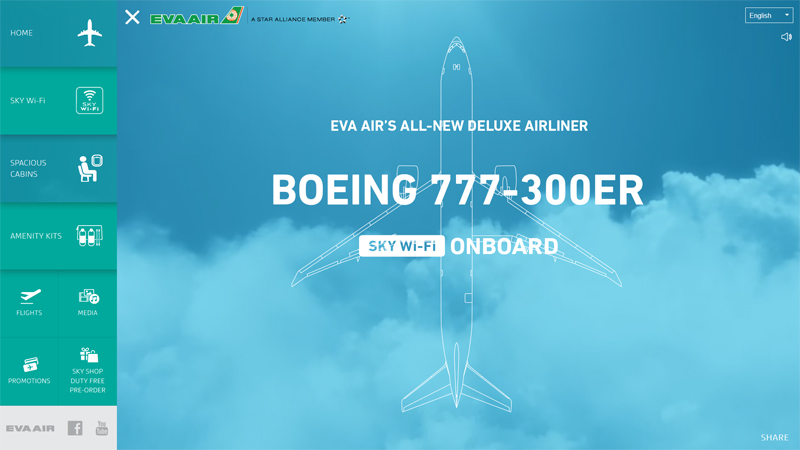Side Bar: (0, 2, 119, 450)
